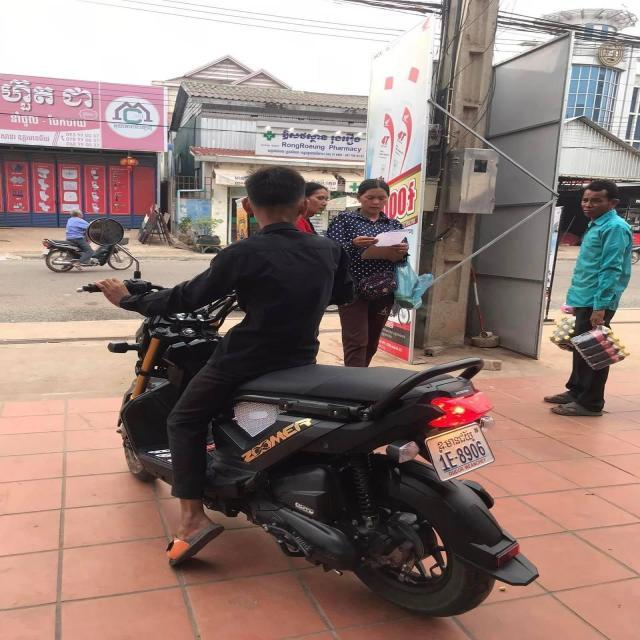Oudor_Meanchey: (439, 427, 473, 452)
